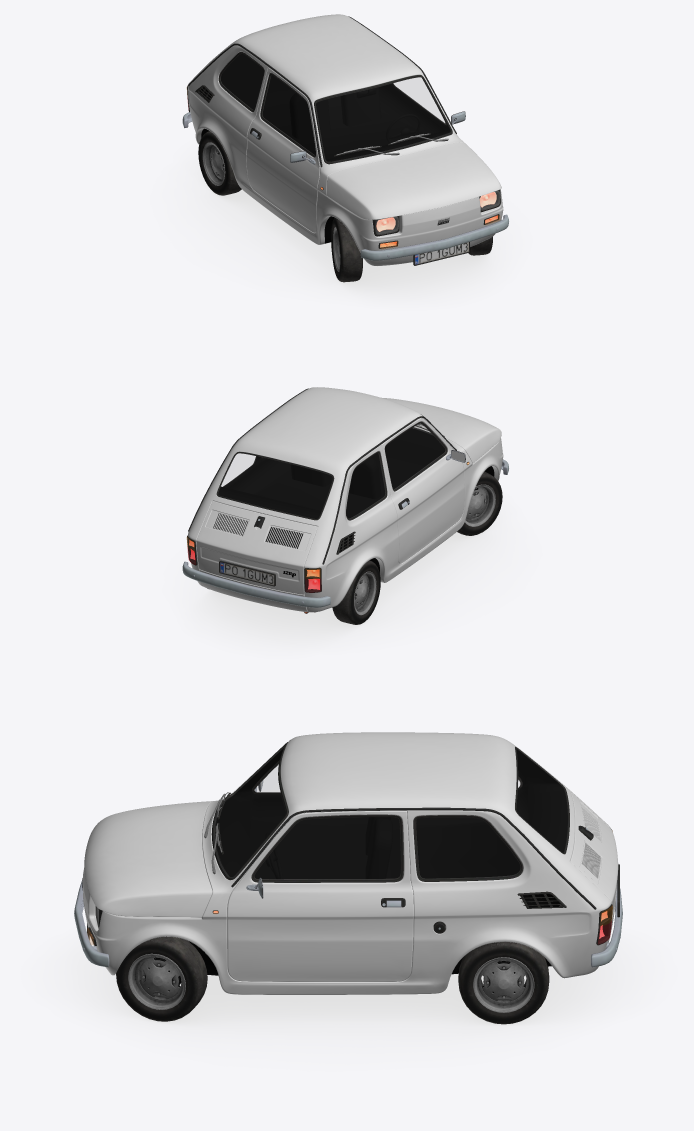
File: fiat126.glb
3 renders of one model, top to bottom at view 1: azimuth 30°, elevation 25°; view 2: azimuth 150°, elevation 25°; view 3: azimuth 270°, elevation 25°, orthographic. The views are drawn at different scales.
Parts seen in each view (by area): view 1: Fiat_126P_1, Object_4, Fiat_126P_Wheel_Rear_Right_5, Fiat_126P_Wheel_Front_Right_3; view 2: Fiat_126P_1, Object_4, Fiat_126P_Wheel_Rear_Right_5, Fiat_126P_Wheel_Front_Right_3; view 3: Fiat_126P_1, Object_4, Fiat_126P_Wheel_Rear_Left_4, Fiat_126P_Wheel_Front_Left_2.
Boxes of the visible parts, left/top/right/bottom form: Fiat_126P_1: left=182, top=14, right=508, bottom=265; Object_4: left=179, top=151, right=509, bottom=303; Fiat_126P_Wheel_Rear_Right_5: left=198, top=131, right=241, bottom=195; Fiat_126P_Wheel_Front_Right_3: left=331, top=217, right=362, bottom=282; Fiat_126P_1: left=182, top=387, right=508, bottom=613; Object_4: left=185, top=504, right=512, bottom=650; Fiat_126P_Wheel_Rear_Right_5: left=332, top=560, right=380, bottom=624; Fiat_126P_Wheel_Front_Right_3: left=457, top=471, right=502, bottom=535; Fiat_126P_1: left=74, top=732, right=622, bottom=994; Object_4: left=47, top=932, right=650, bottom=1050; Fiat_126P_Wheel_Rear_Left_4: left=458, top=942, right=549, bottom=1024; Fiat_126P_Wheel_Front_Left_2: left=116, top=936, right=207, bottom=1021.
Size of the model in its own units: 3.67 by 1.31 by 3.67.
Materials: 21 (14 with a texture image).
